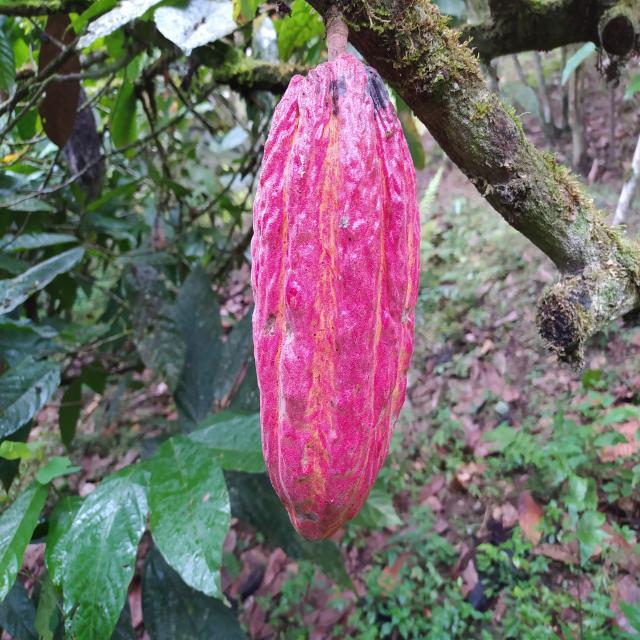Sana: (247, 56, 423, 550)
